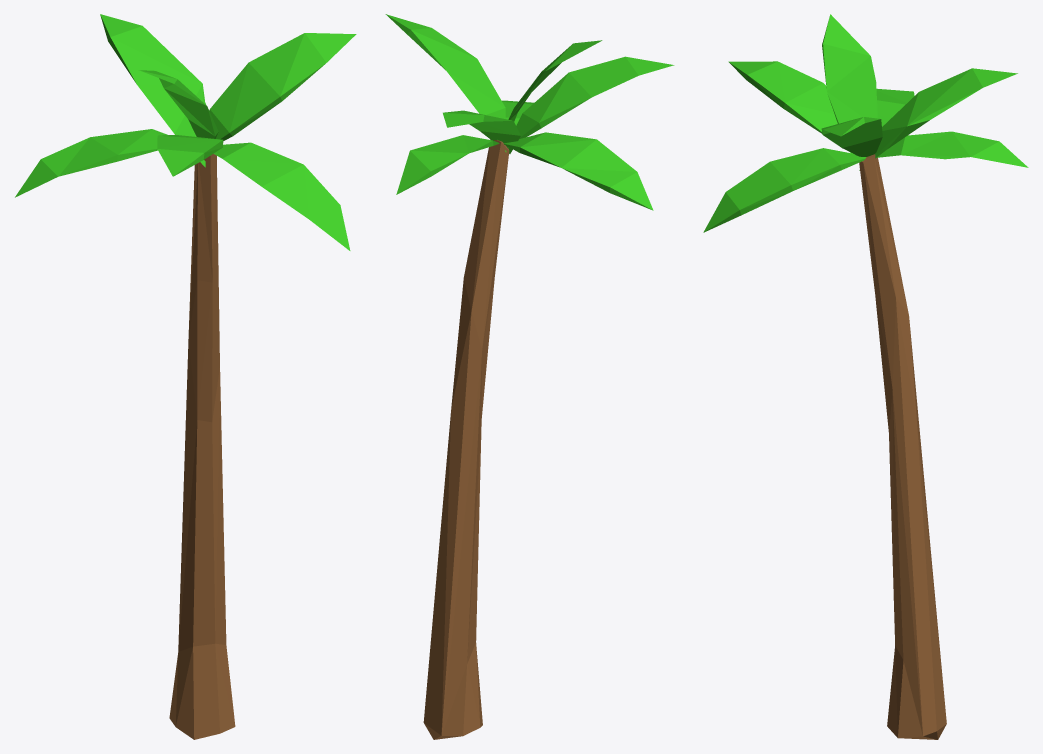
Rendered from palm2.fbx.
3 views of the same model, side by side, from view 1: azimuth 30°, elevation 25°; view 2: azimuth 150°, elevation 25°; view 3: azimuth 270°, elevation 25° (orthographic). The views are drawn at different scales.
Parts seen in each view (by area): view 1: tree_palm2; view 2: tree_palm2; view 3: tree_palm2.
Part boxes in pixels (box(x1,y1,x2,y2)): tree_palm2: box(15, 14, 356, 739); tree_palm2: box(385, 14, 674, 739); tree_palm2: box(703, 14, 1028, 739).
Size of the model in its own units: 293 by 648 by 285.
